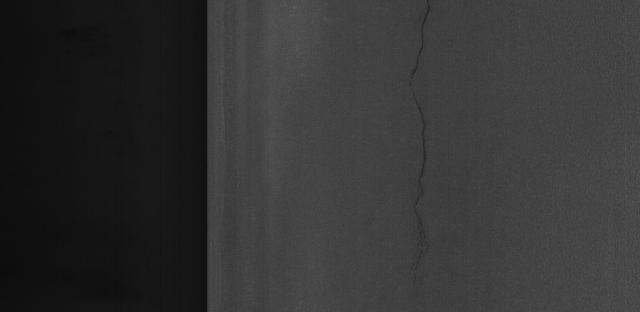water_spot: (401, 5, 452, 268)
